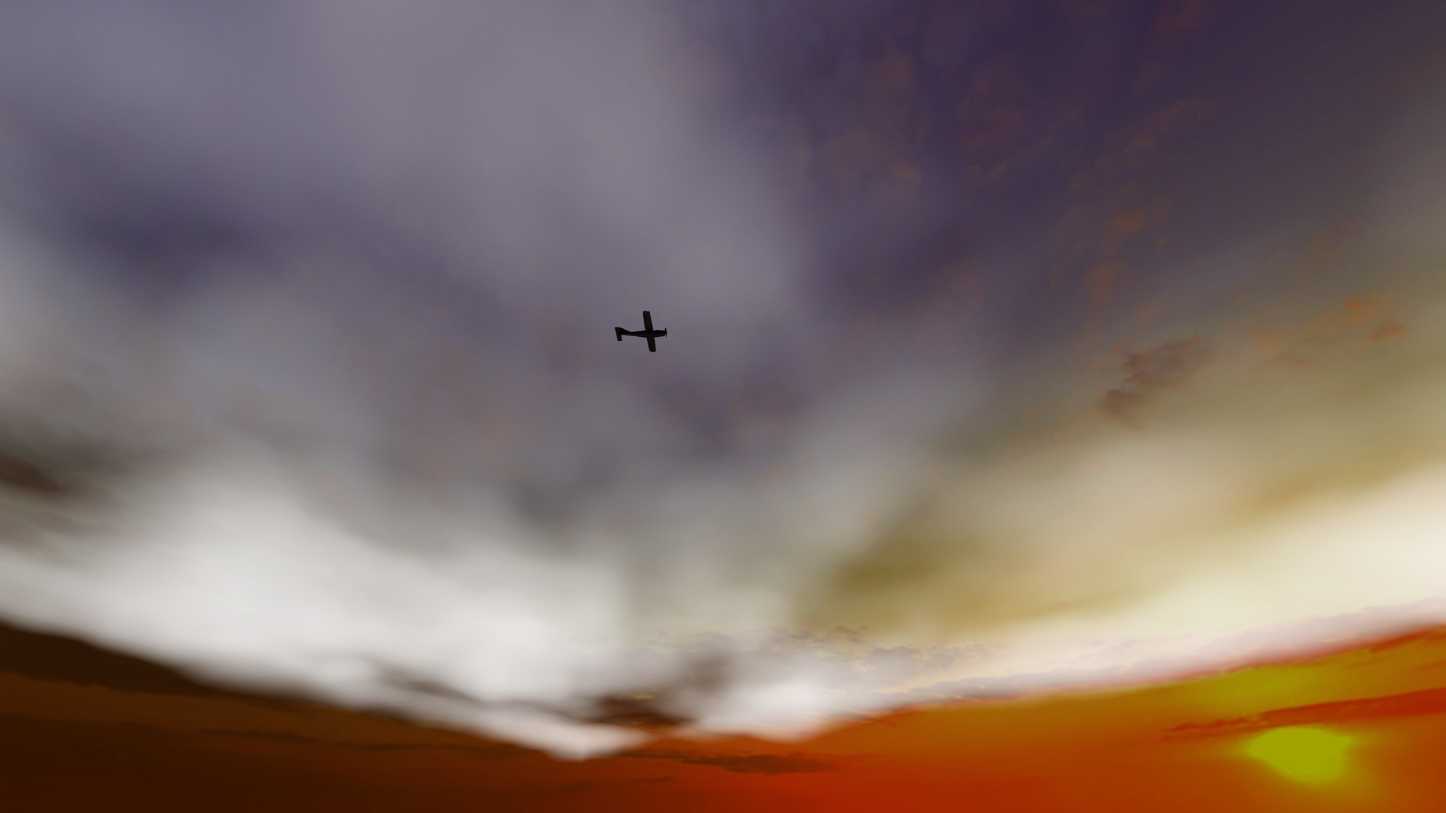drone_other: (615, 311, 667, 352)
